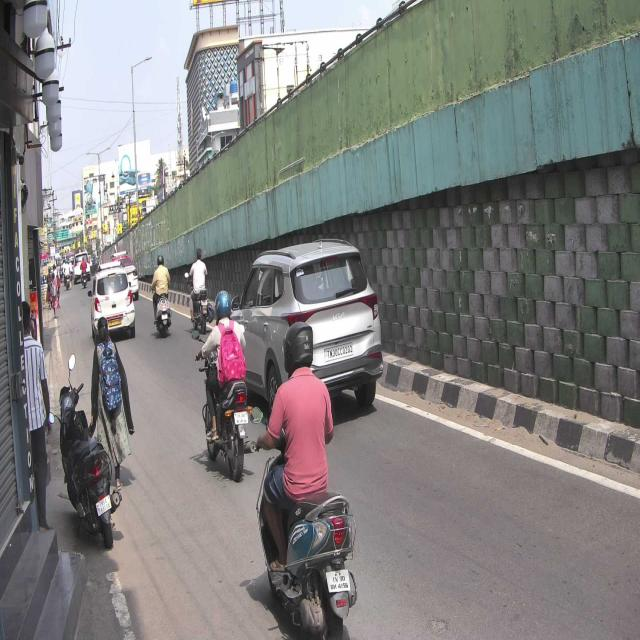single_rider: (254, 322, 356, 640), (194, 288, 253, 481)
